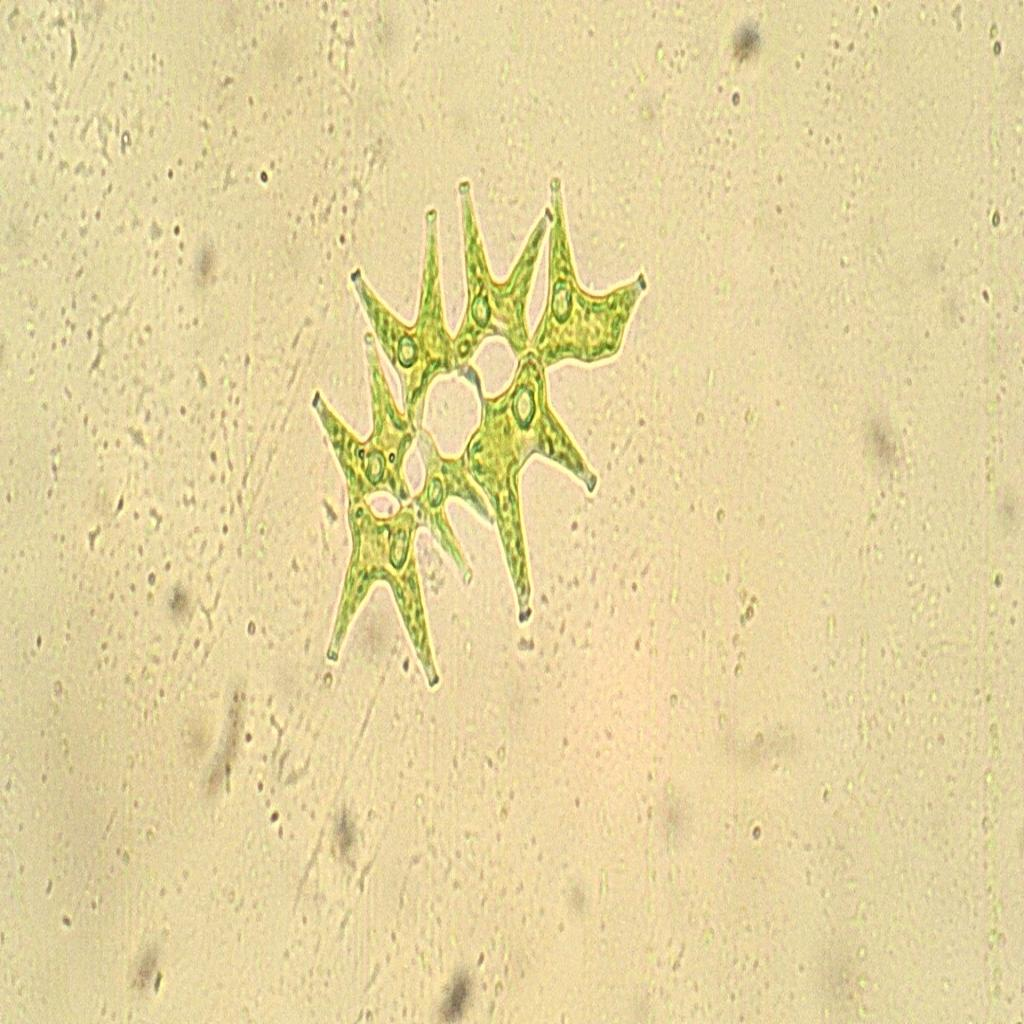Pediastrum_1TH: (286, 159, 664, 699)
